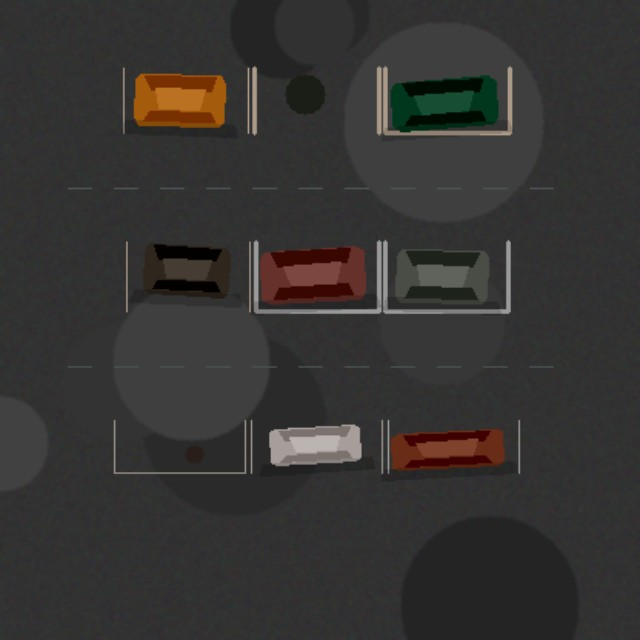space-empty: (254, 68, 378, 132), (114, 420, 245, 472)
space-occupied: (126, 242, 249, 311), (255, 242, 378, 311), (385, 242, 508, 311), (123, 68, 248, 132), (385, 68, 509, 132), (251, 420, 382, 472), (388, 420, 518, 472)
